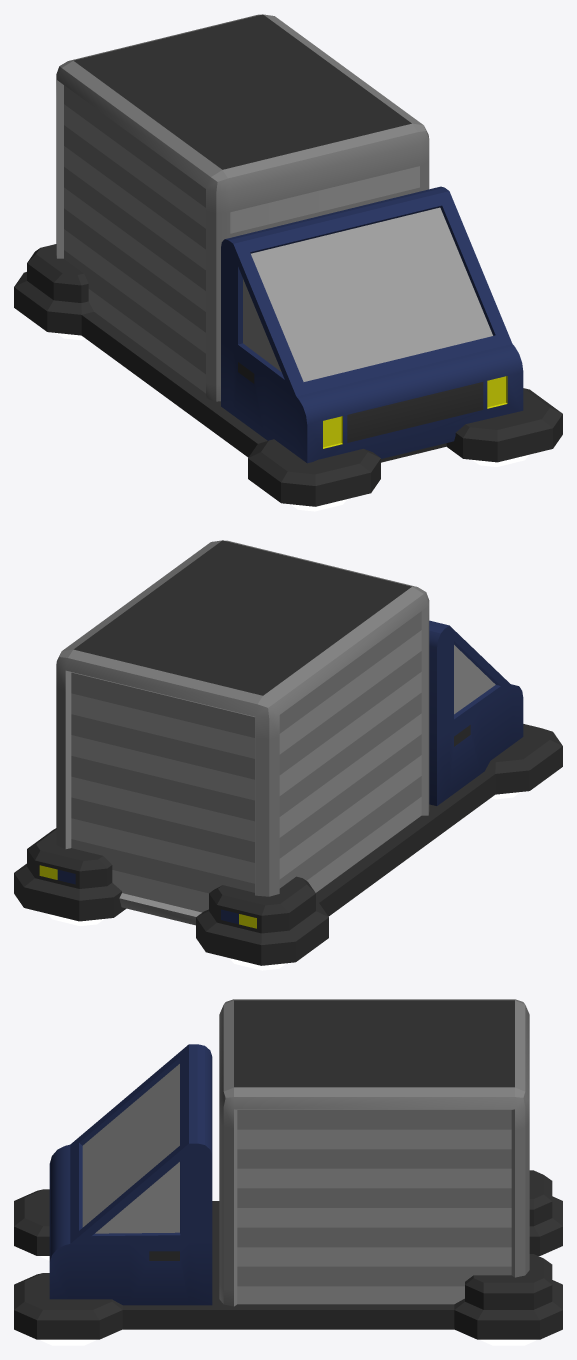
File: MOBIL_NPC_PAKET_3.fbx
The picture shows the model from 3 angles, top to bottom: view 1: azimuth 30°, elevation 25°; view 2: azimuth 150°, elevation 25°; view 3: azimuth 270°, elevation 25°; orthographic projection. The views are drawn at different scales.
Parts seen in each view (by area): view 1: MOBIL_NPC_PAKET_3; view 2: MOBIL_NPC_PAKET_3; view 3: MOBIL_NPC_PAKET_3.
Part boxes in pixels (box(x1,y1,x2,y2)): MOBIL_NPC_PAKET_3: box(14, 14, 562, 511); MOBIL_NPC_PAKET_3: box(14, 540, 562, 970); MOBIL_NPC_PAKET_3: box(14, 999, 562, 1345).
Bounding box in the file's own units: 195 × 175 × 350.
